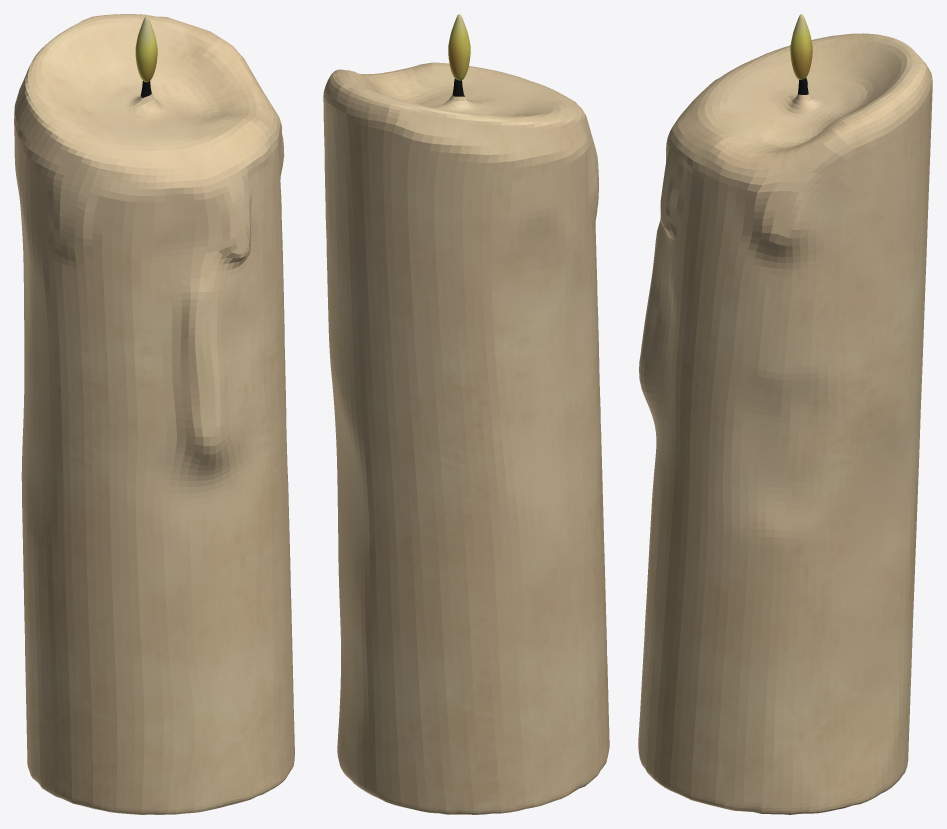
The model's file is candle1_.fbx.
3 views of the same model, side by side, from view 1: azimuth 30°, elevation 25°; view 2: azimuth 150°, elevation 25°; view 3: azimuth 270°, elevation 25° (orthographic).
Visible parts, largest first — view 1: PM3D_candle_1, Sphere; view 2: PM3D_candle_1, Sphere; view 3: PM3D_candle_1, Sphere.
Boxes of the visible parts, x1,y1,x2,y2 form: PM3D_candle_1: (14, 14, 294, 814); Sphere: (135, 16, 157, 82); PM3D_candle_1: (323, 62, 609, 814); Sphere: (448, 14, 470, 80); PM3D_candle_1: (638, 33, 932, 814); Sphere: (790, 14, 812, 79).
Bounding box in the file's own units: 14.54 × 42.69 × 15.21.
